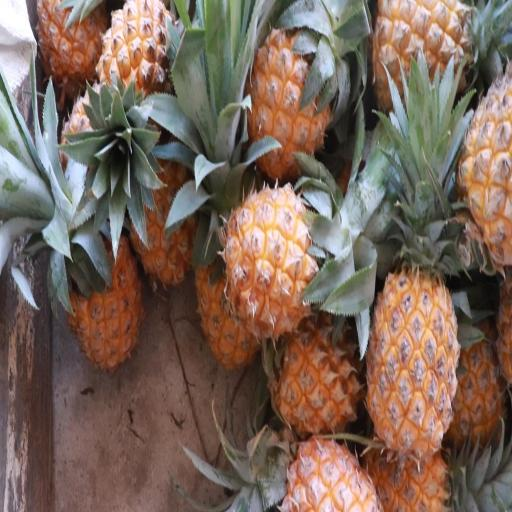Pineapple - v8 v1: (365, 230, 461, 461), (221, 170, 326, 340), (243, 21, 337, 189), (66, 197, 150, 383), (270, 300, 369, 445), (126, 126, 205, 301), (372, 0, 476, 128), (452, 64, 512, 281), (95, 0, 181, 137), (268, 424, 384, 512)
